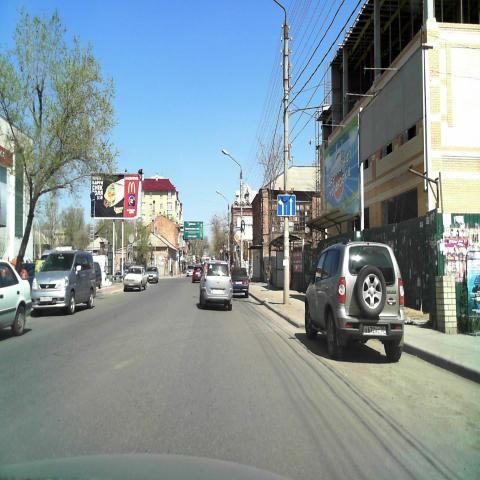2_1: (234, 232, 240, 242)
5_15_2_2: (277, 194, 296, 216)
